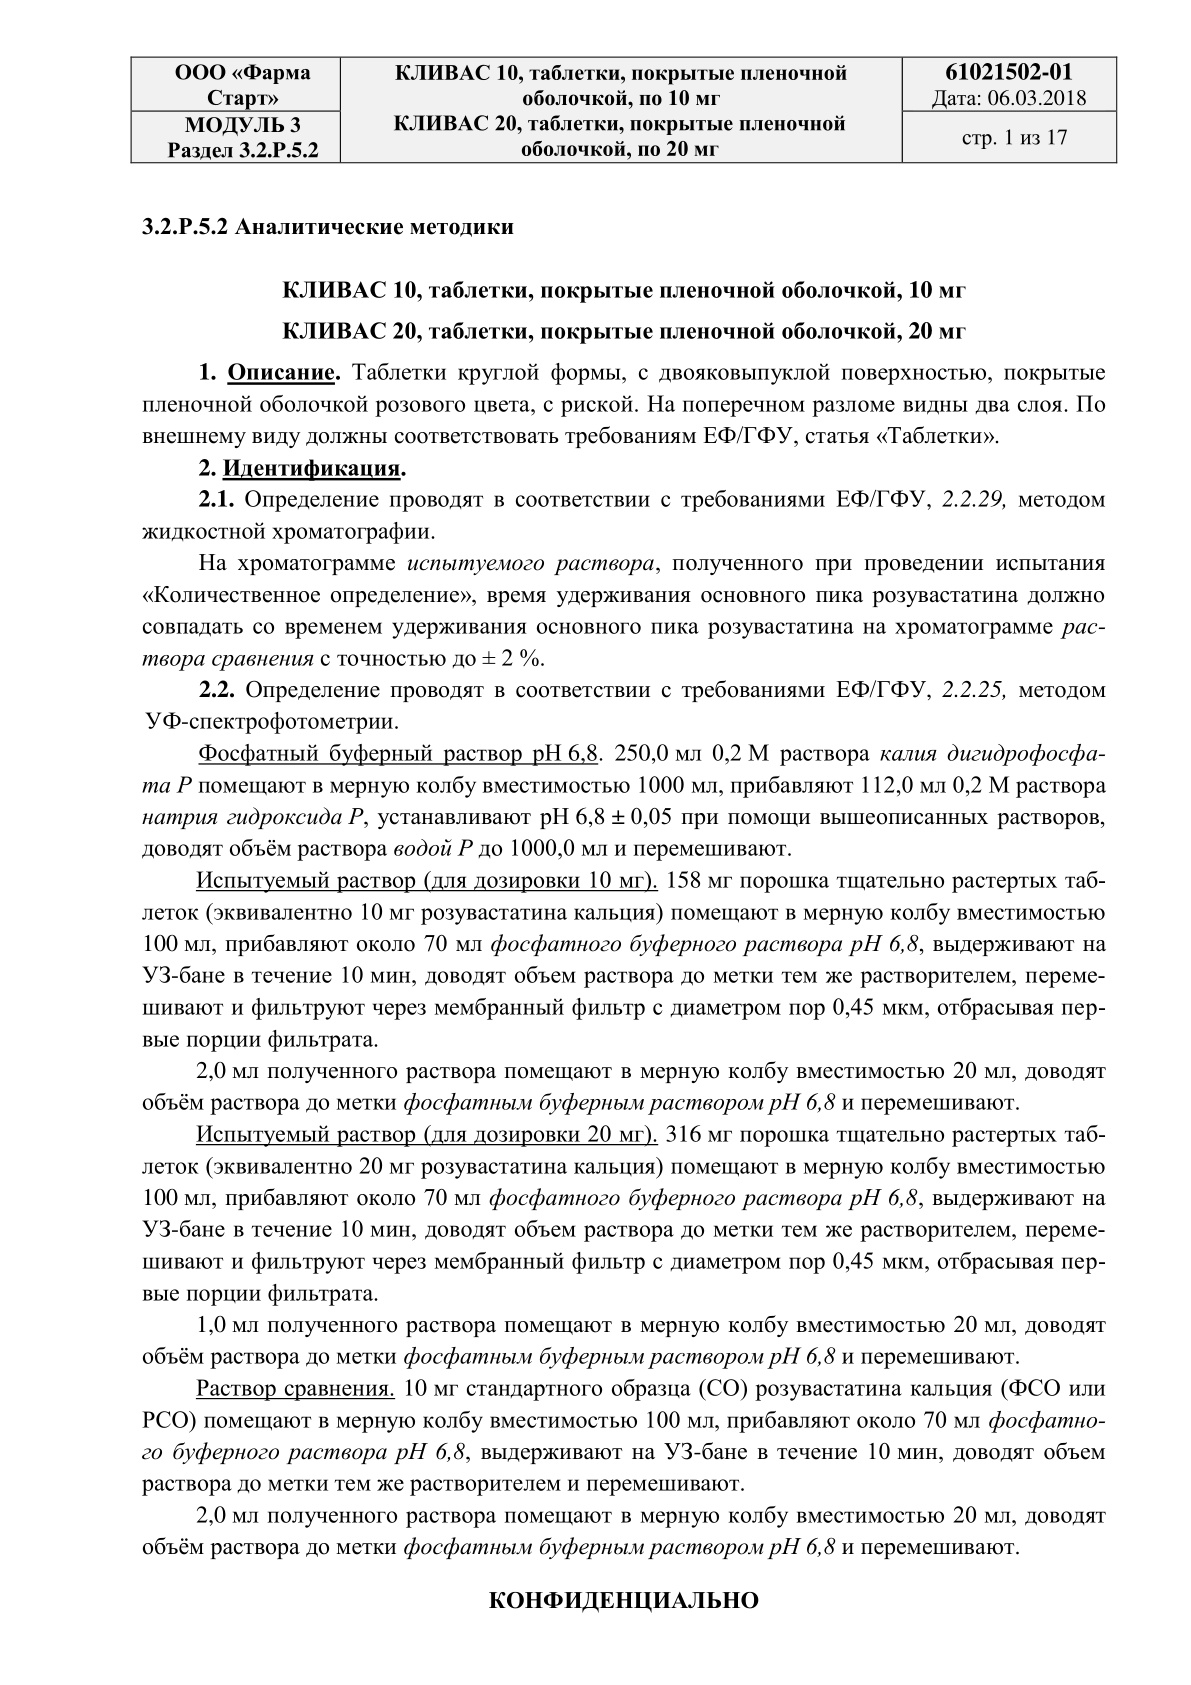merged_cells: (129, 55, 1119, 166)
